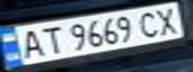6: (100, 15, 124, 46), (84, 17, 106, 48)
9: (63, 20, 87, 52), (115, 12, 139, 43)
A: (15, 26, 48, 60)
C: (133, 8, 166, 38)
T: (36, 24, 66, 55)
X: (151, 4, 184, 36)
